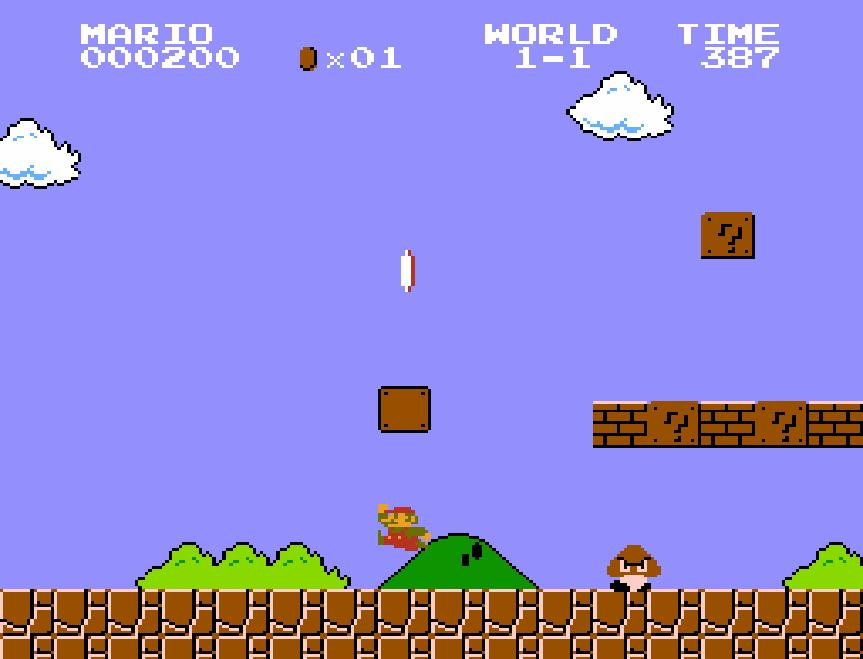little_mario: (376, 502, 434, 552)
